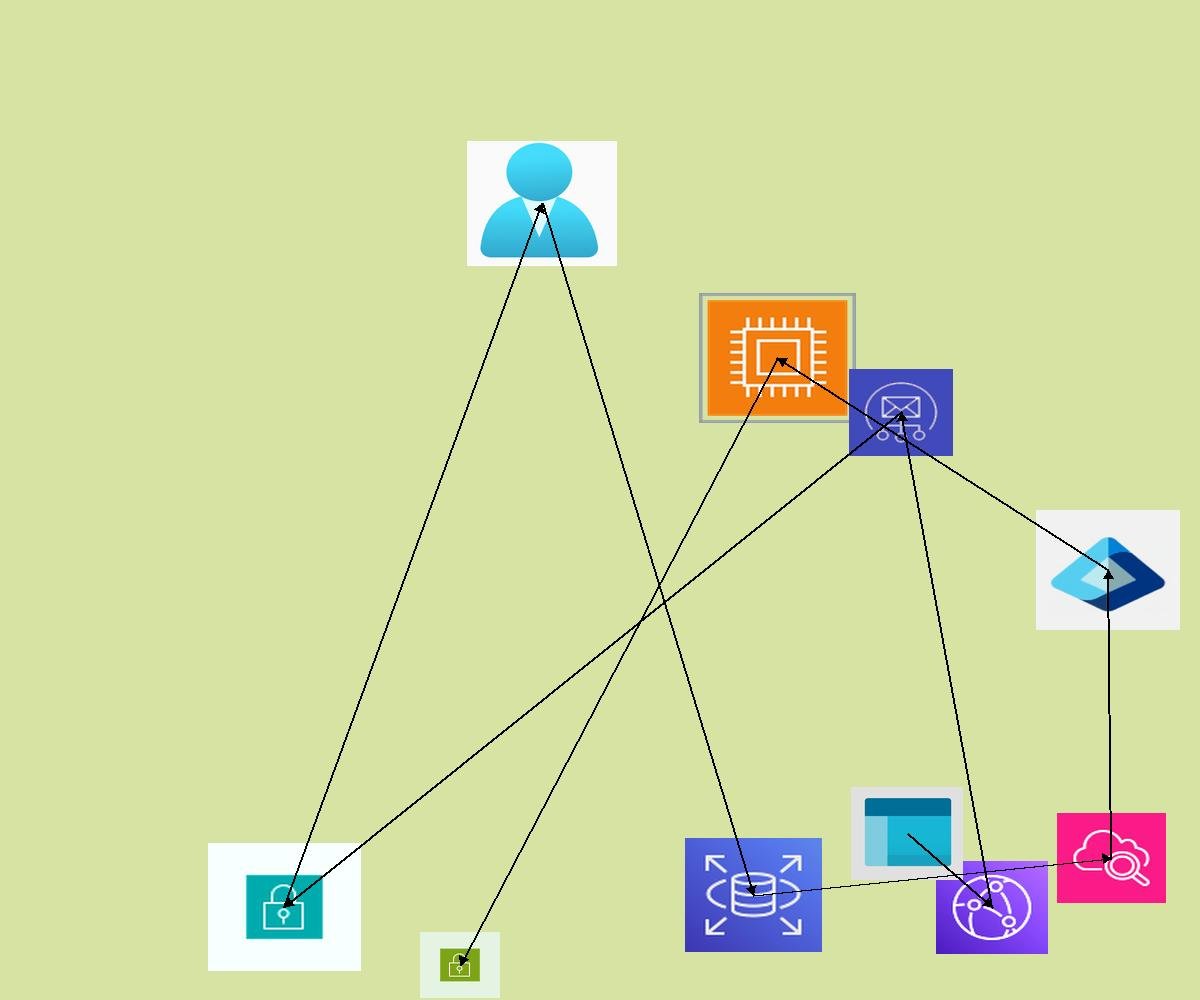AWS-Category_Compute: (699, 293, 856, 423)
AWS-CloudFront: (936, 861, 1048, 954)
AWS-CloudWatch: (1057, 813, 1166, 903)
AWS-Private-subnet: (208, 843, 361, 971)
AWS-Public-subnet: (420, 932, 500, 998)
AWS-RDS: (685, 838, 822, 952)
AWS-Simple-Email-Service: (849, 369, 953, 456)
Azure_management-portal: (851, 787, 963, 880)
Azure_microsoft_entra: (1036, 510, 1180, 630)
Azure_users: (467, 141, 617, 266)
